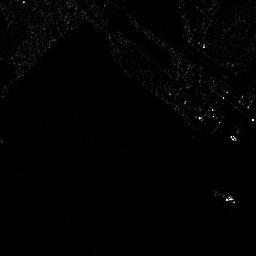ship: (203, 184, 236, 205)
